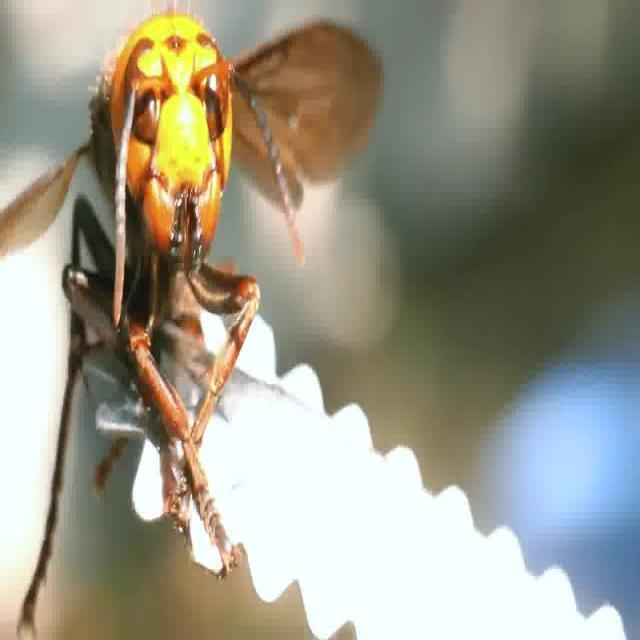Wasp: (5, 5, 388, 577)
